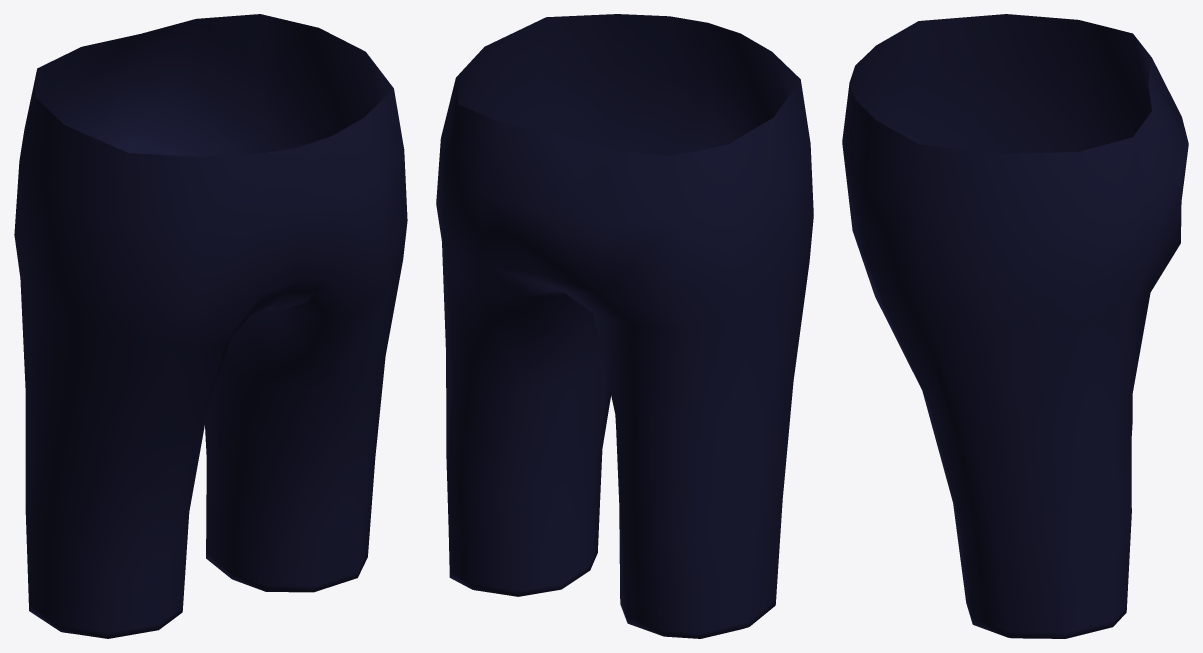
File: AF_M_Trousers_08.FBX
The picture shows the model from 3 angles, left to right: view 1: azimuth 30°, elevation 25°; view 2: azimuth 150°, elevation 25°; view 3: azimuth 270°, elevation 25°; orthographic projection. The views are drawn at different scales.
Visible parts, largest first — view 1: AF_M_Trousers_08; view 2: AF_M_Trousers_08; view 3: AF_M_Trousers_08.
Part boxes in pixels (x1,y1,x2,y2): AF_M_Trousers_08: (14,14,407,638); AF_M_Trousers_08: (436,14,813,638); AF_M_Trousers_08: (842,14,1188,638).
Size of the model in its own units: 293 by 433 by 279.
